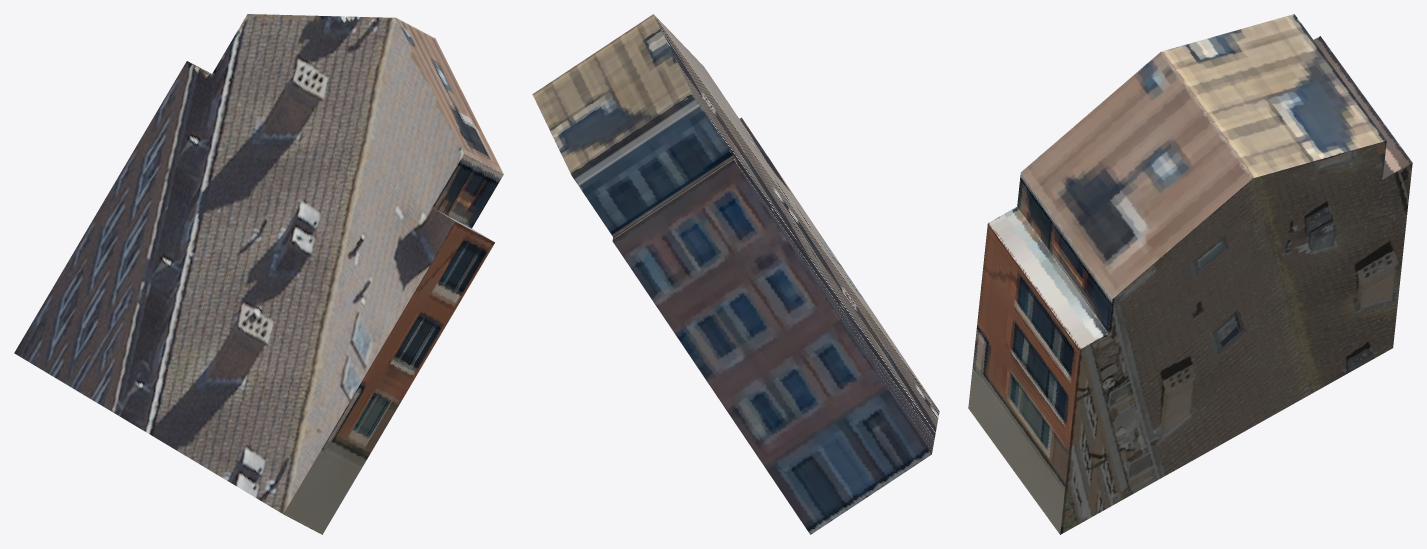
The picture shows the model from 3 angles, left to right: view 1: azimuth 30°, elevation 25°; view 2: azimuth 150°, elevation 25°; view 3: azimuth 270°, elevation 25°; orthographic projection. The views are drawn at different scales.
Parts seen in each view (by area): view 1: BAG_0599100000650043 (×3); view 2: BAG_0599100000650043 (×3); view 3: BAG_0599100000650043 (×3).
Boxes of the visible parts, x1,y1,x2,y2 form: BAG_0599100000650043 (×3): [14, 14, 503, 534]; BAG_0599100000650043 (×3): [532, 14, 939, 534]; BAG_0599100000650043 (×3): [968, 14, 1412, 534].
Bounding box in the file's own units: 17.46 × 18.59 × 13.58.
Materials: 1 (1 with a texture image).
